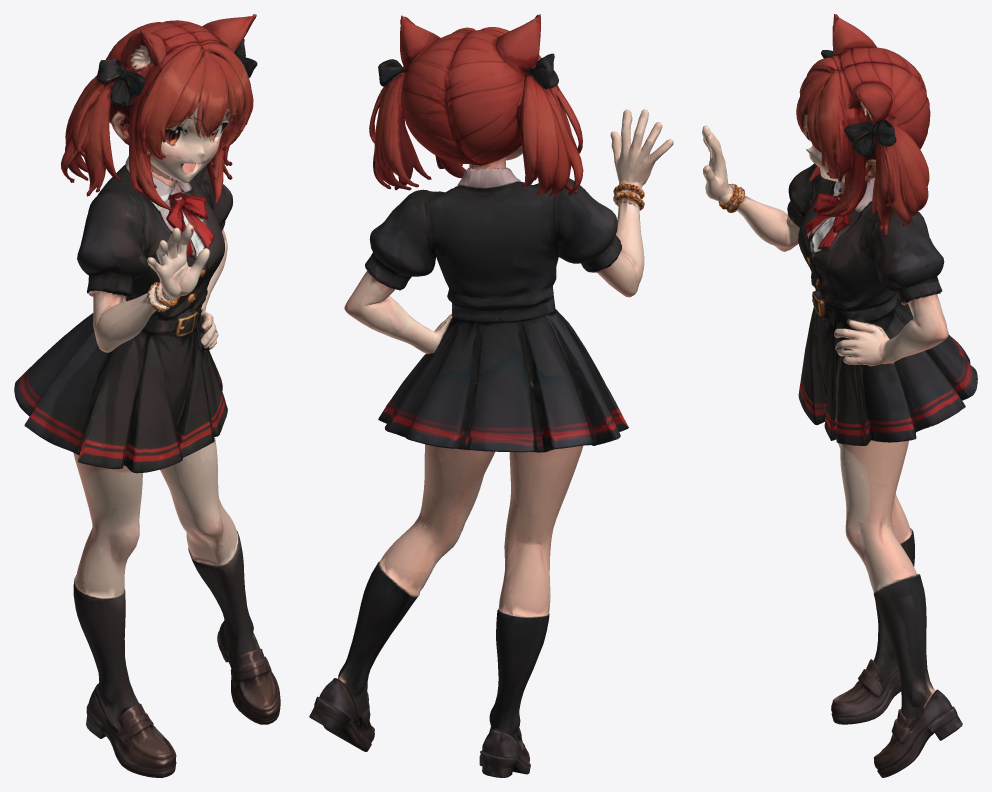
File: TeethMei3D.fbx
3 views of the same model, side by side, from view 1: azimuth 30°, elevation 25°; view 2: azimuth 150°, elevation 25°; view 3: azimuth 270°, elevation 25° (orthographic). The views are drawn at different scales.
Parts seen in each view (by area): view 1: TeethMei3D; view 2: TeethMei3D; view 3: TeethMei3D.
Boxes of the visible parts, x1,y1,x2,y2 form: TeethMei3D: (14,14,280,777); TeethMei3D: (309,14,673,777); TeethMei3D: (702,14,977,777).
Bounding box in the file's own units: 37.08 × 98.07 × 35.21.
1 material, 1 textured.
